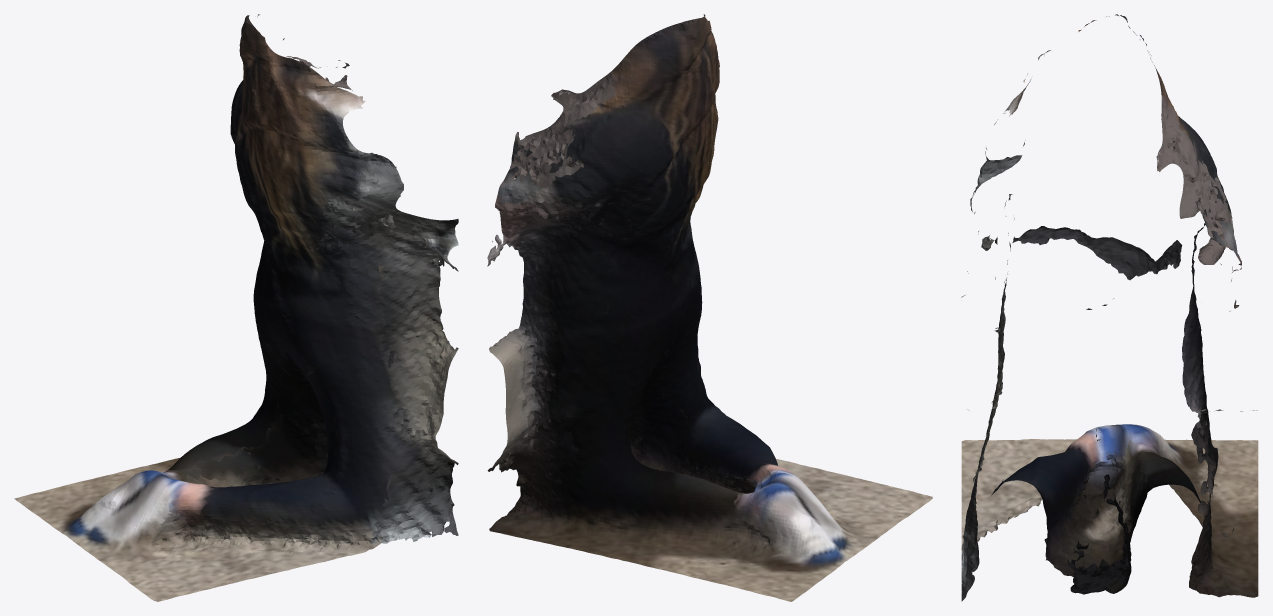
3 views of the same model, side by side, from view 1: azimuth 30°, elevation 25°; view 2: azimuth 150°, elevation 25°; view 3: azimuth 270°, elevation 25° (orthographic). The views are drawn at different scales.
Size of the model in its own units: 0.6695 by 1.05 by 0.5437.
1 material, 1 textured.
